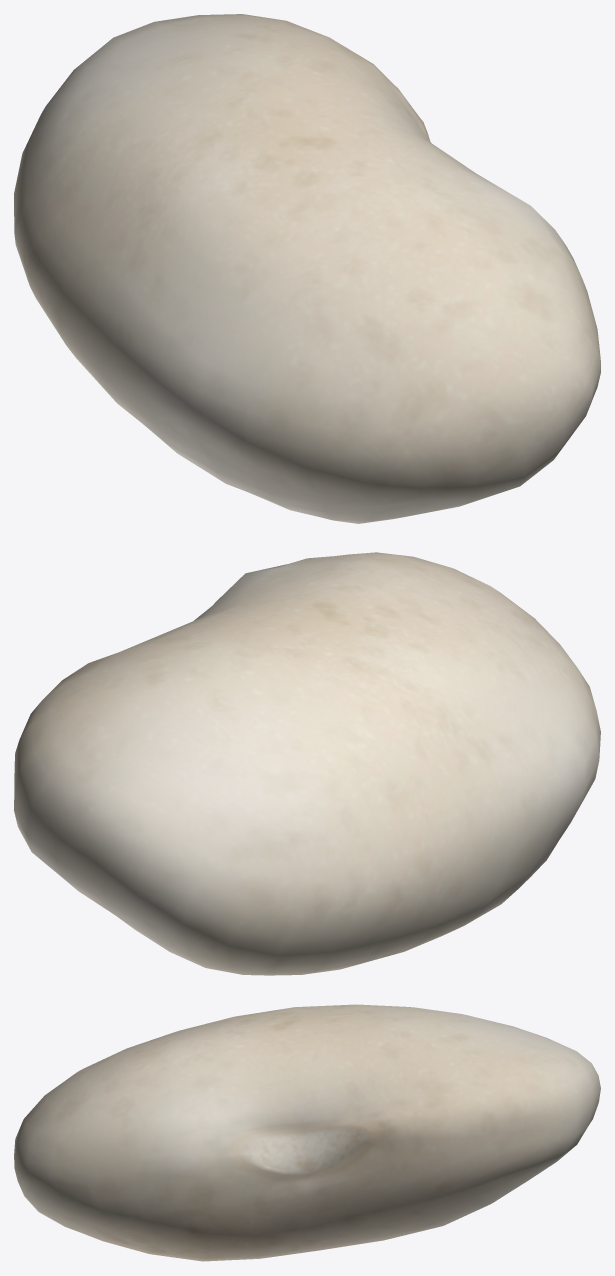
File: Bean.fbx
3 renders of one model, top to bottom at view 1: azimuth 30°, elevation 25°; view 2: azimuth 150°, elevation 25°; view 3: azimuth 270°, elevation 25°, orthographic. The views are drawn at different scales.
Visible parts, largest first — view 1: Bean; view 2: Bean; view 3: Bean.
Part boxes in pixels (x1=…): Bean: x1=14, y1=14, x2=600, y2=523; Bean: x1=14, y1=552, x2=600, y2=975; Bean: x1=14, y1=1004, x2=600, y2=1261.
Bounding box in the file's own units: 84.21 × 68.62 × 152.
